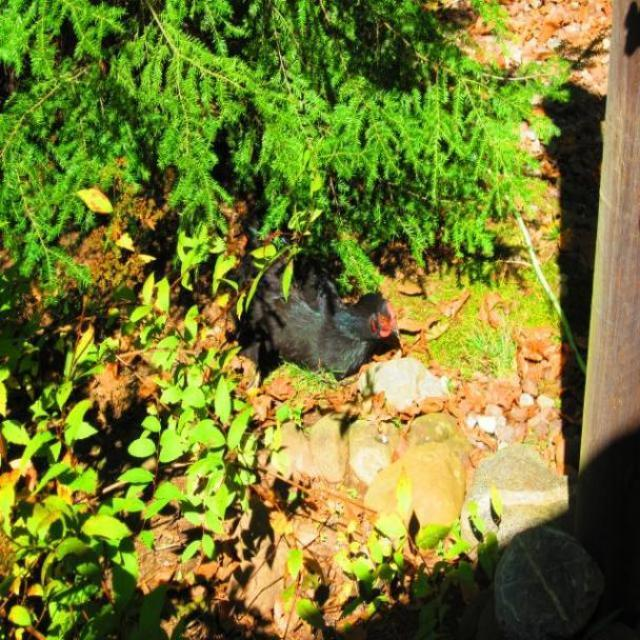Chicken: (240, 220, 399, 379)
